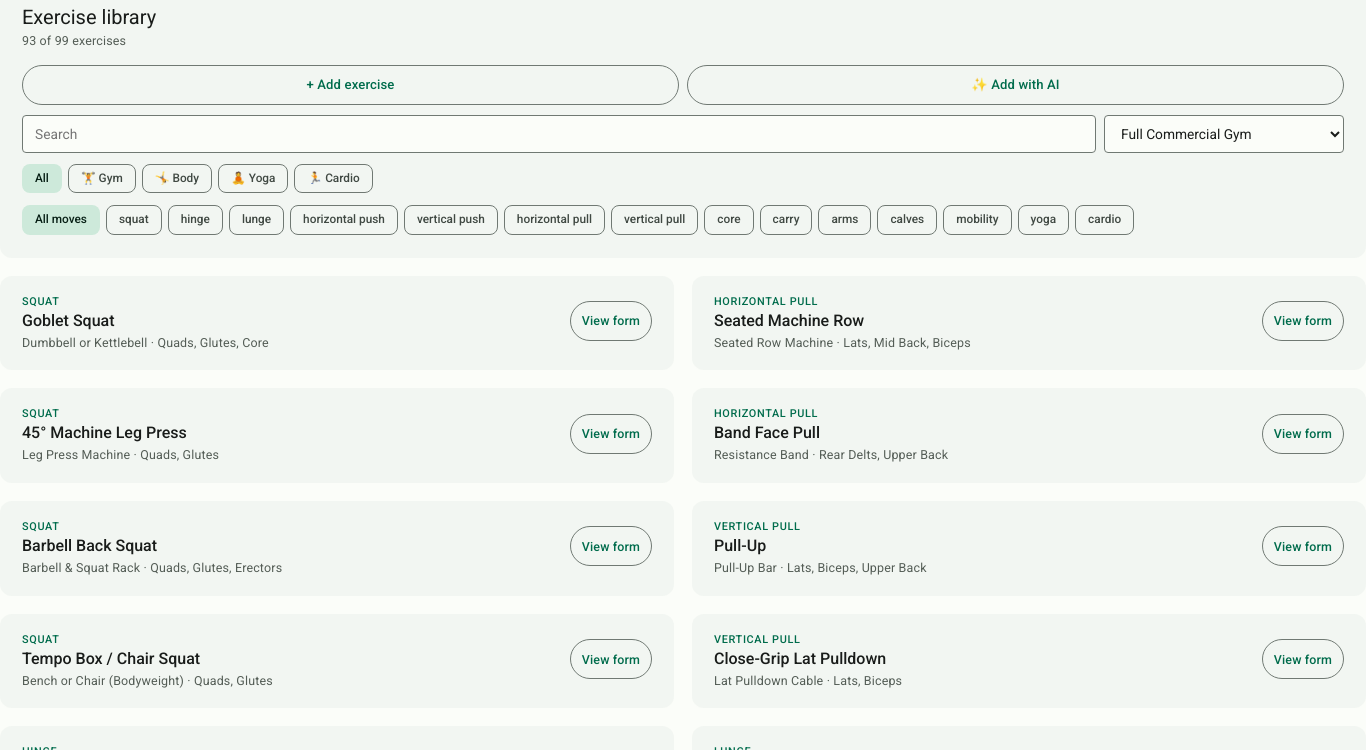
Scenario: library screen › rejects a name that already exists
Click the button "+ Add exercise": (350, 85) [22,65,679,105]
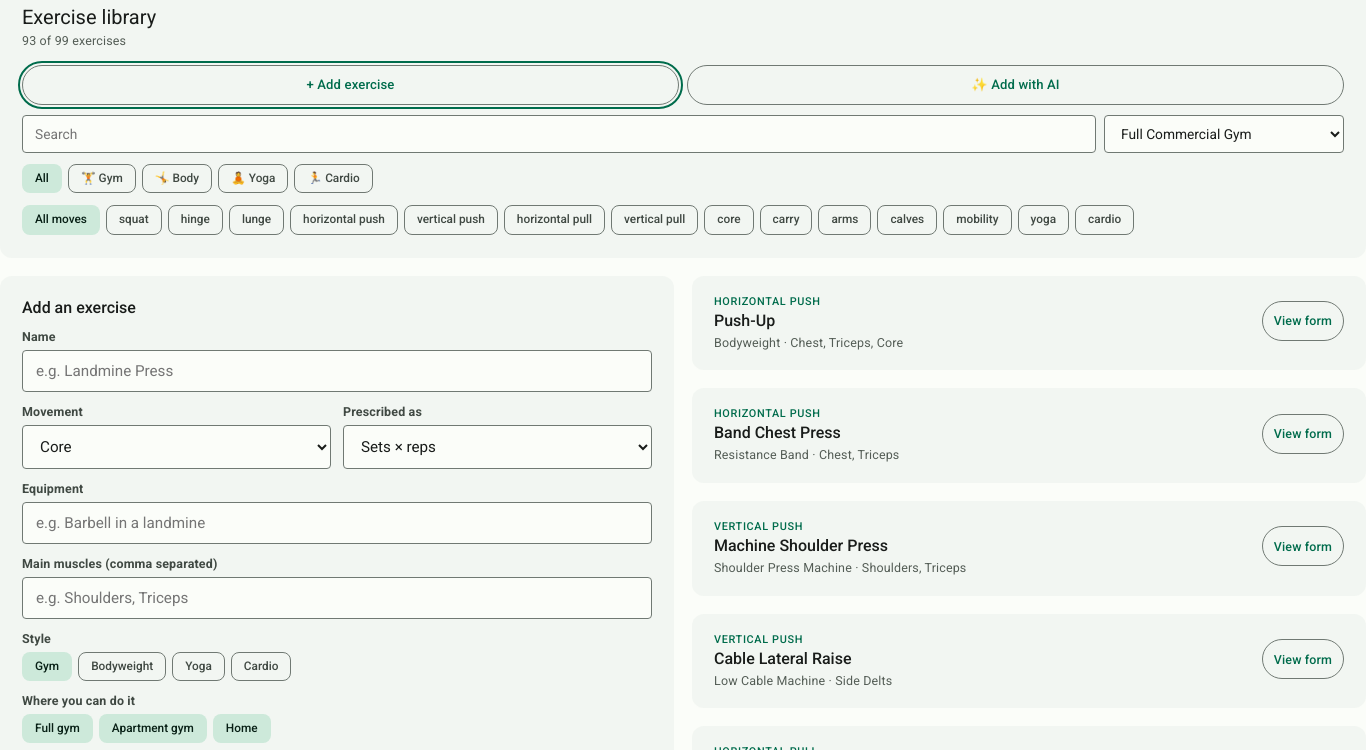
In the field with placeholder "e.g. Landmine Press": (337, 370) [22,350,652,392], type "goblet squat"
(page scrolled)
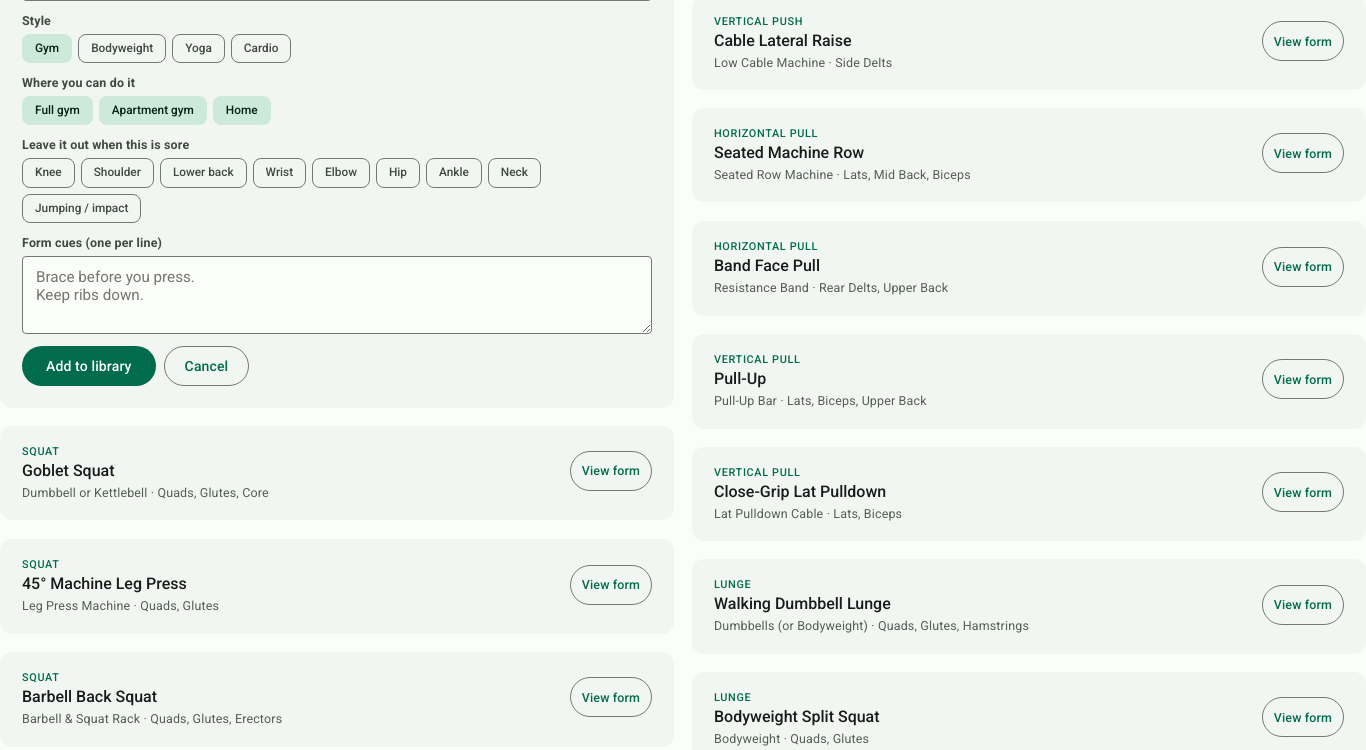
Click the button "Add to library": (89, 366) [22,346,156,386]
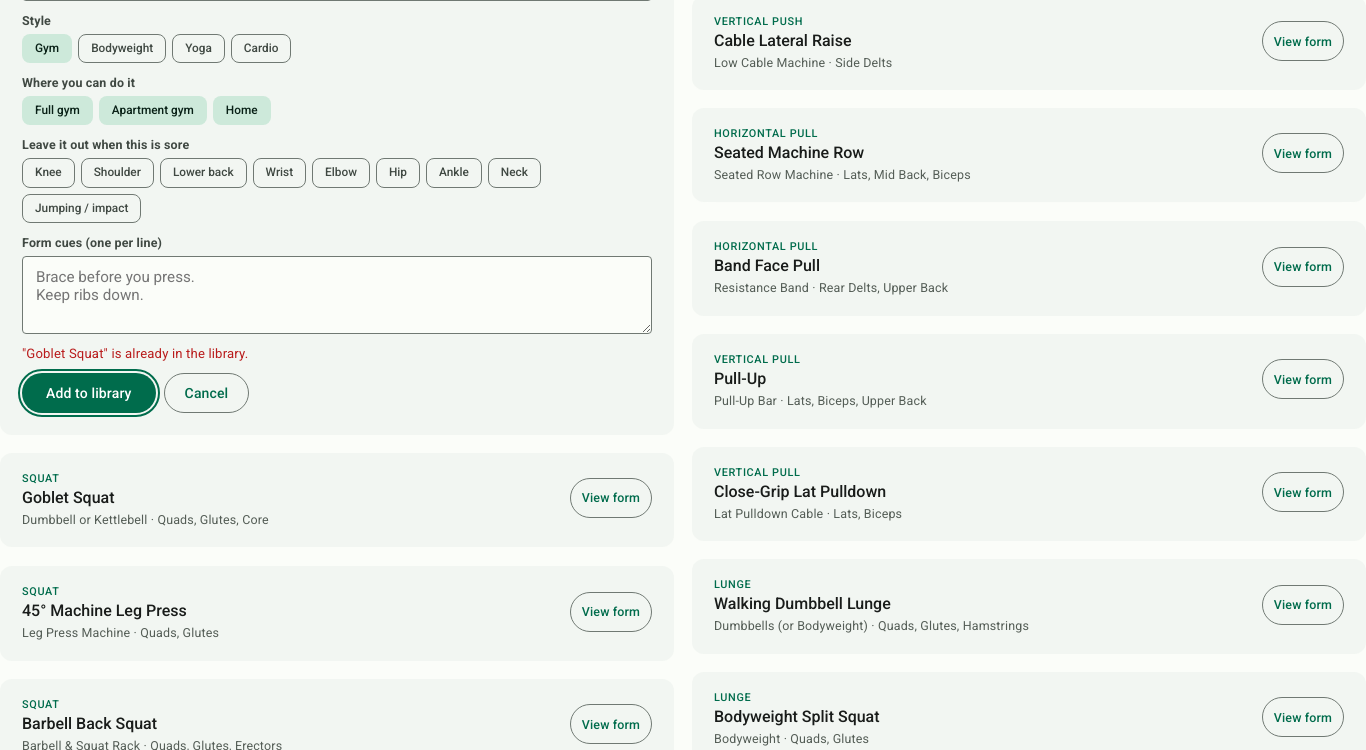
Check: the message shows "already in the library", box [22,346,248,361]
